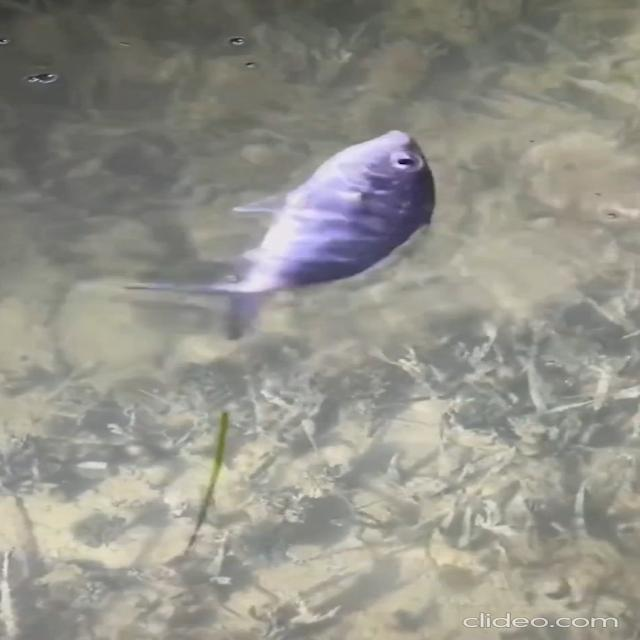fish: (126, 117, 480, 350)
